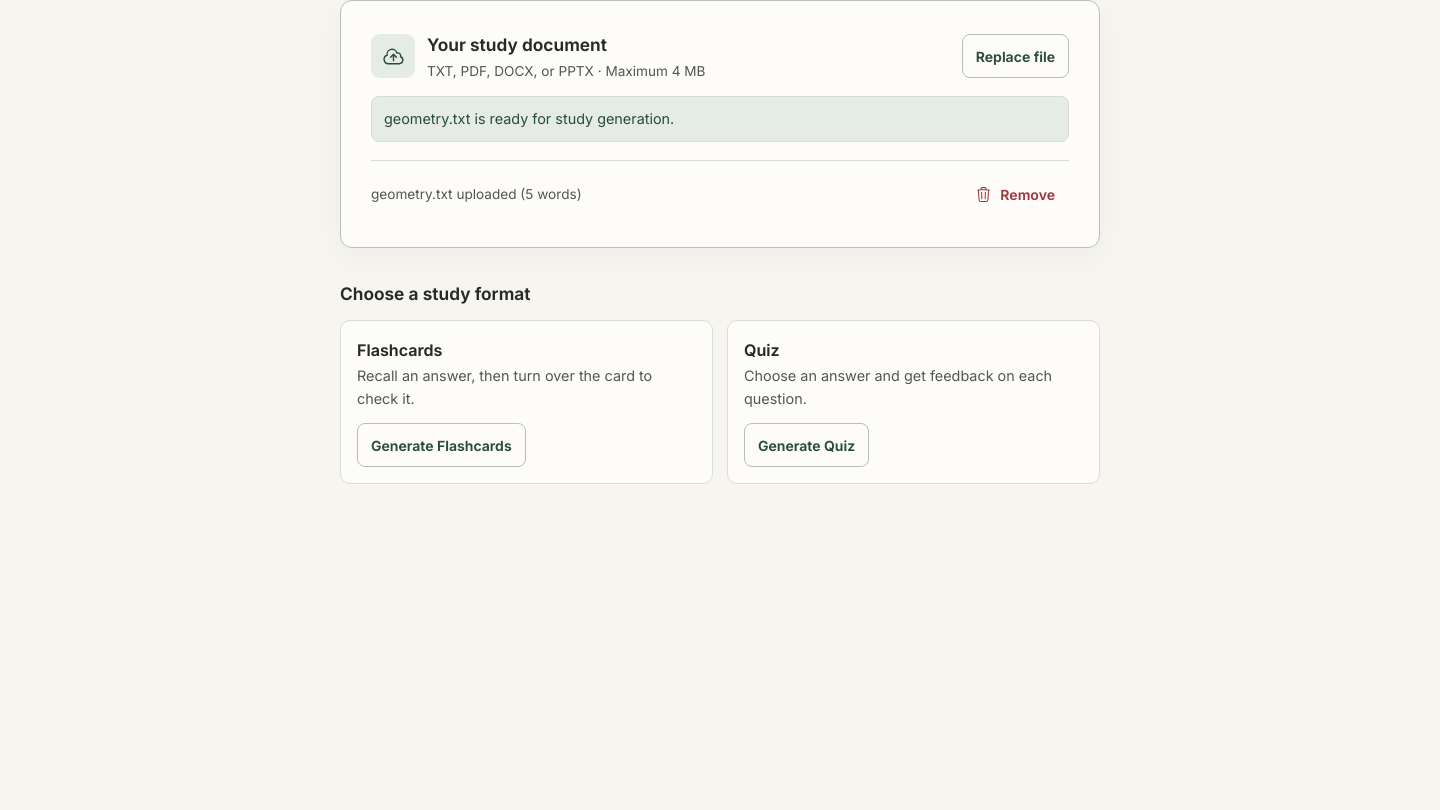
it: reports a generation error and allows another attempt
Earlier steps of the test are not shown.
Expected: the text "geometry.txt uploaded (5 words)" is shown, [371,184,582,206]
Click the button "Generate Flashcards": (441, 445) [357,423,526,467]
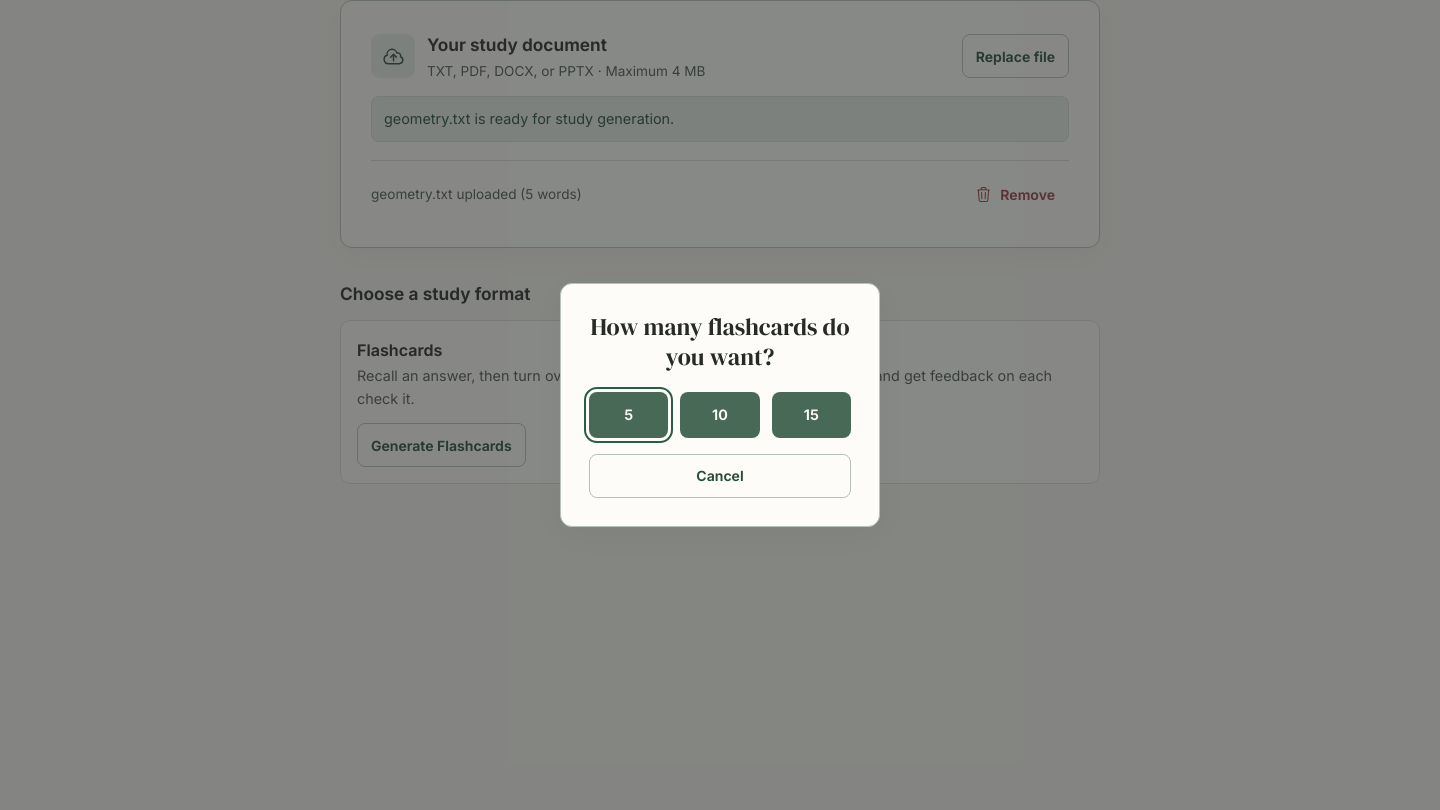
Click the button "15": (811, 415) [772,392,851,438]
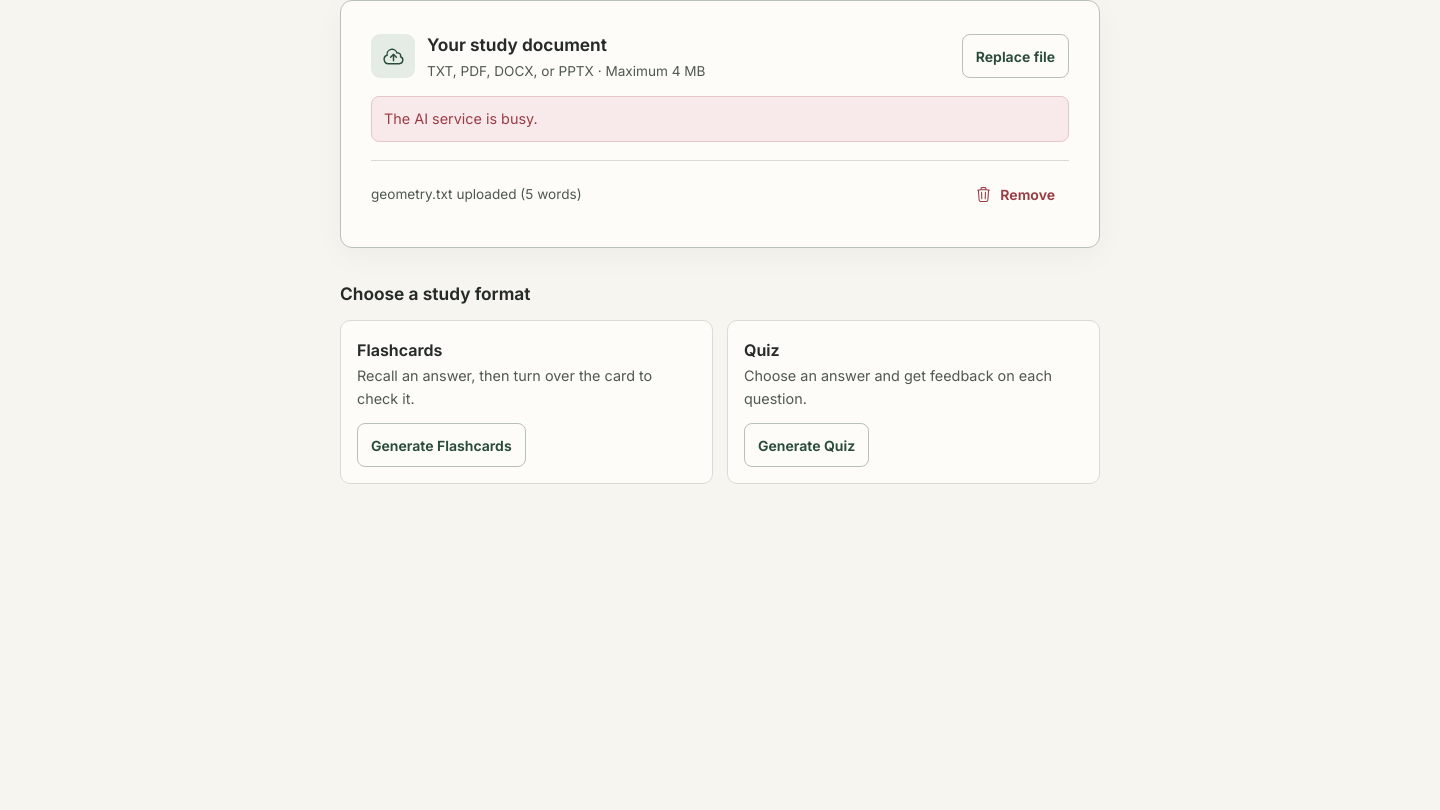
Expected: the button "Generate Flashcards" is enabled, [357,423,526,467]
Expected: the message reads "The AI service is busy.", [384,110,538,127]
